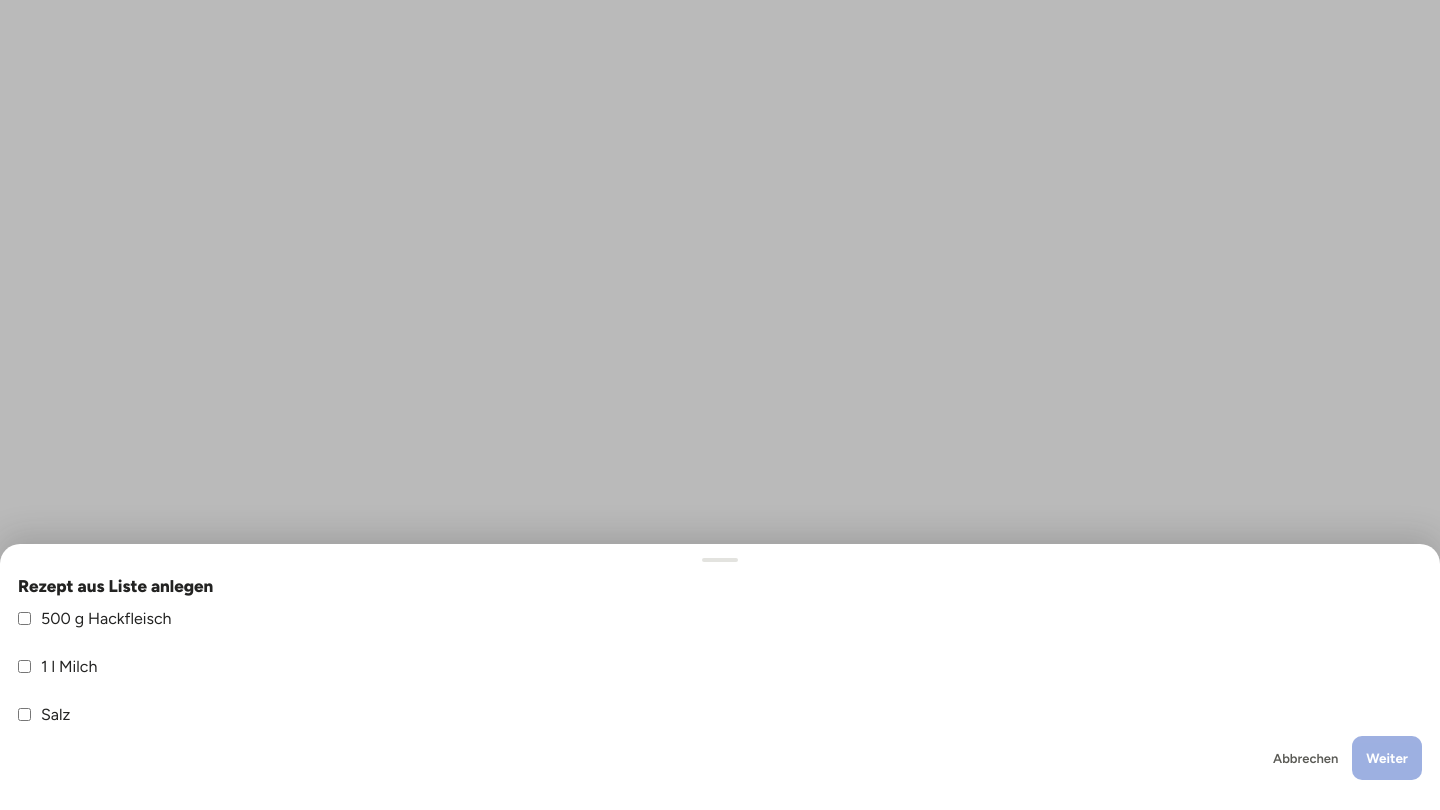
Test: DeriveRecipeSheet › carries the list's amounts into step ② as editable fields
The image size is (1440, 810).
Step 1. Click the checkbox labelled "1 l Milch" → coordinates (24, 666), box [18, 660, 31, 672]
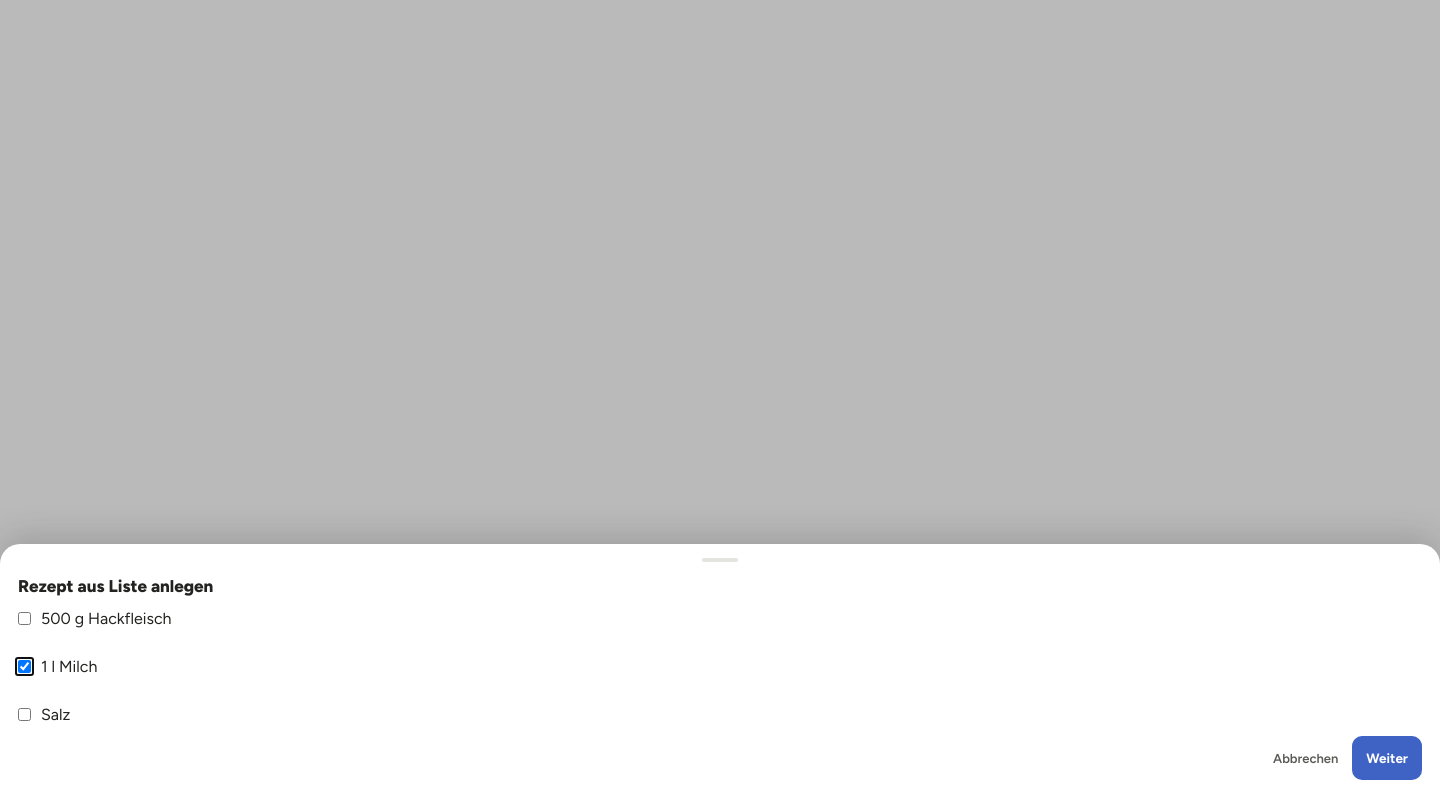
Step 2. Click the button "Weiter" → coordinates (1387, 758), box [1352, 736, 1422, 780]
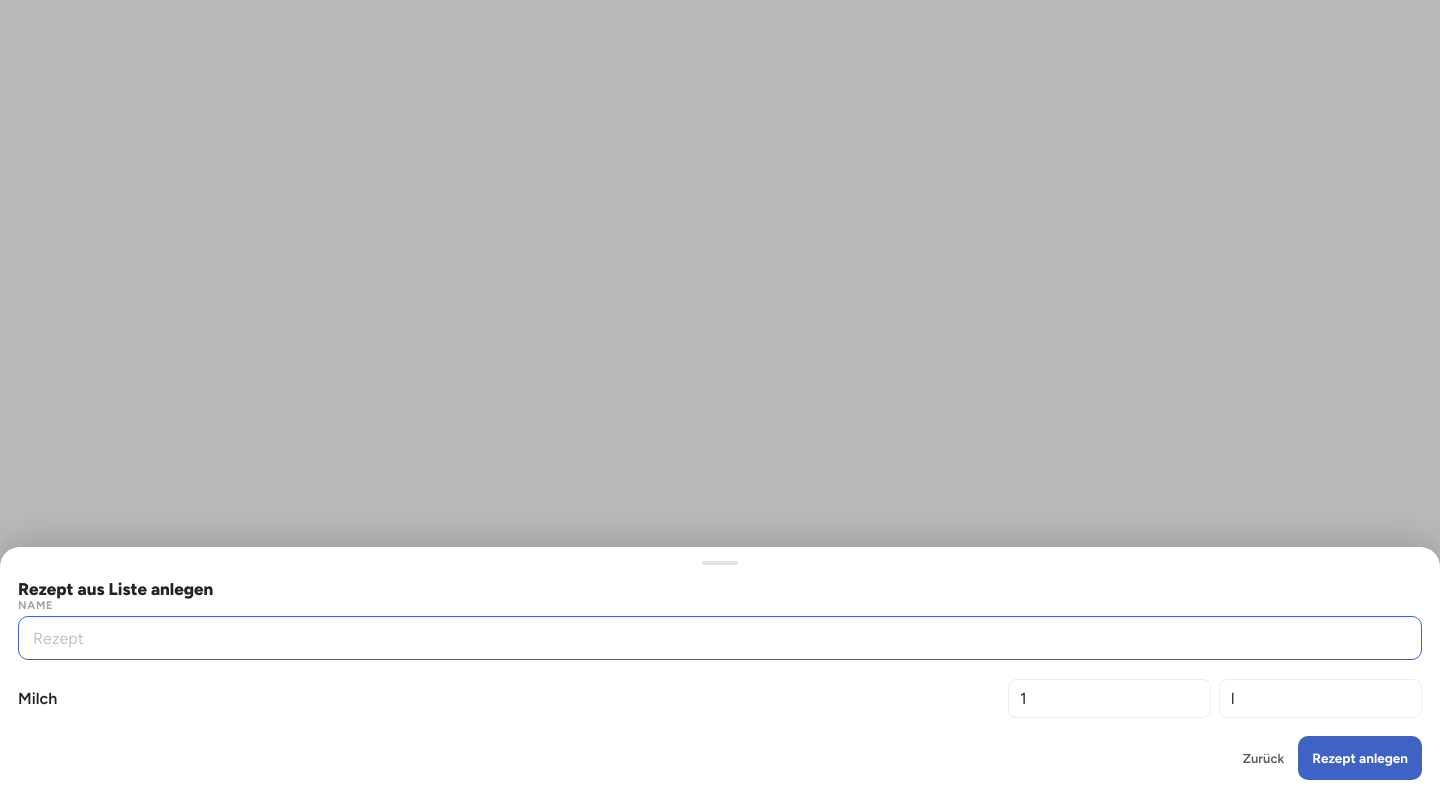
Check: the field named "Menge Milch" holds "1", box [1008, 678, 1211, 718]
Check: the field labelled "Name" is shown, box [18, 616, 1422, 660]
